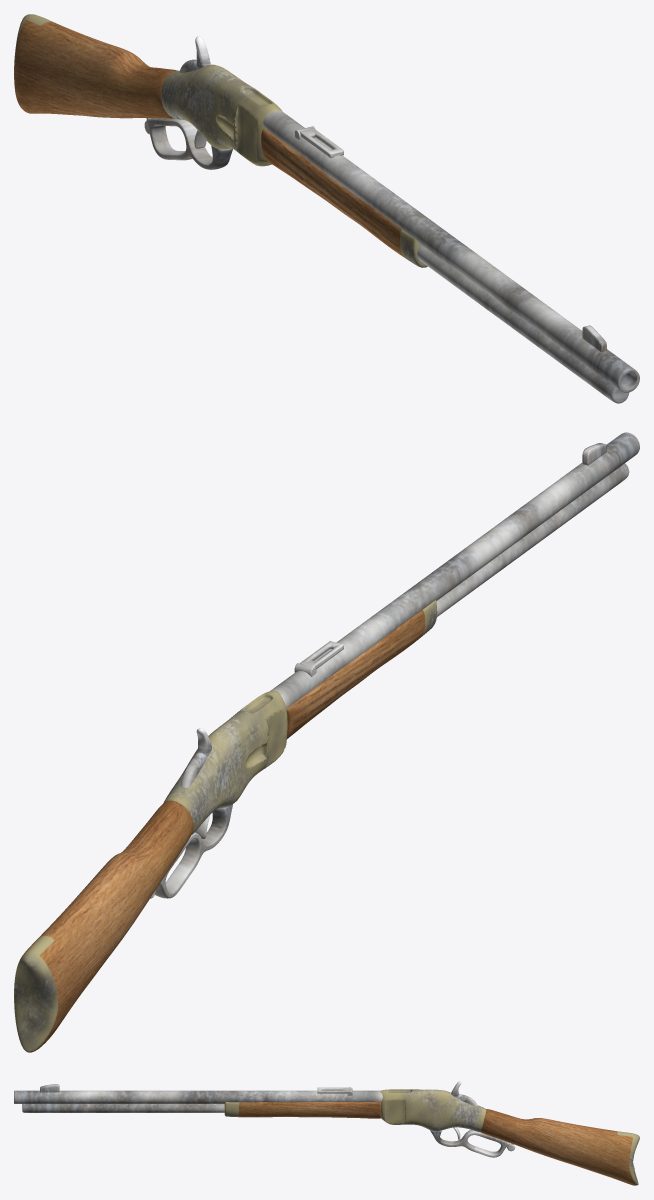
File: Musket 01.fbx
3 renders of one model, top to bottom at view 1: azimuth 30°, elevation 25°; view 2: azimuth 150°, elevation 25°; view 3: azimuth 270°, elevation 25°, orthographic. The views are drawn at different scales.
Parts seen in each view (by area): view 1: Winchester_21; view 2: Winchester_21; view 3: Winchester_21.
Part boxes in pixels (bbox=[...]): Winchester_21: bbox=[14, 14, 639, 403]; Winchester_21: bbox=[14, 432, 639, 1052]; Winchester_21: bbox=[14, 1081, 639, 1185].
Bounding box in the file's own units: 0.1051 × 0.4398 × 2.41.
Materials: 3 (3 with a texture image).
